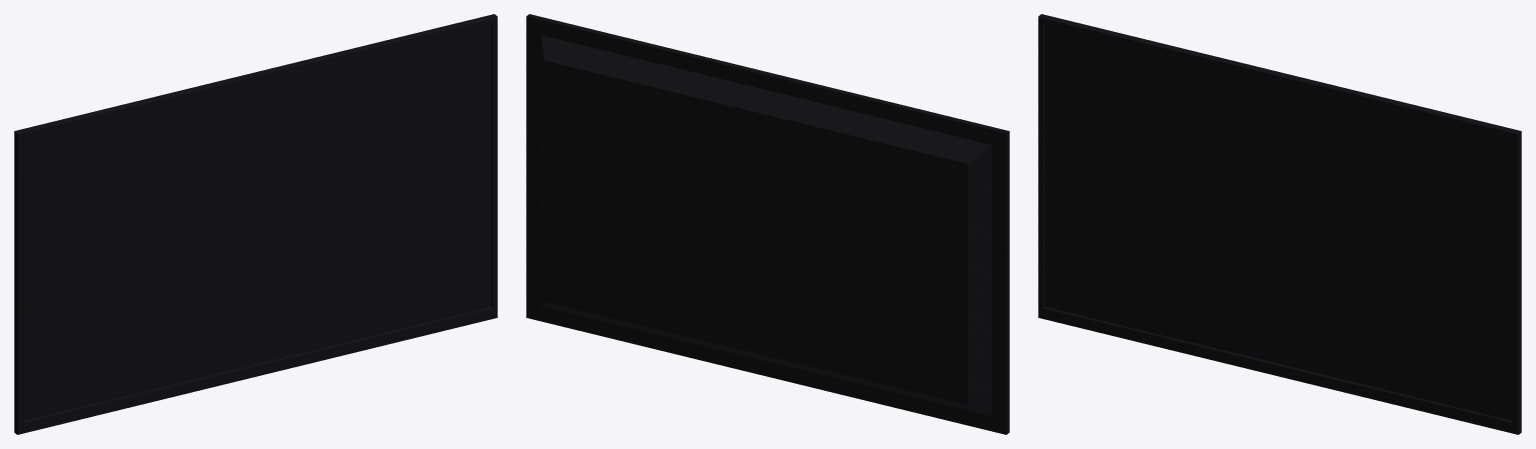
3 renders of one model, left to right at view 1: azimuth 30°, elevation 25°; view 2: azimuth 150°, elevation 25°; view 3: azimuth 330°, elevation 25°, orthographic.
Parts seen in each view (by area): view 1: tv_Untitled; view 2: tv_Untitled; view 3: tv_Untitled.
Part boxes in pixels (x1,y1,x2,y2): tv_Untitled: (14,14,497,434); tv_Untitled: (526,14,1009,434); tv_Untitled: (1038,14,1521,434).
Size of the model in its own units: 1.5 by 0.9 by 0.0736.
1 material, 1 textured.
